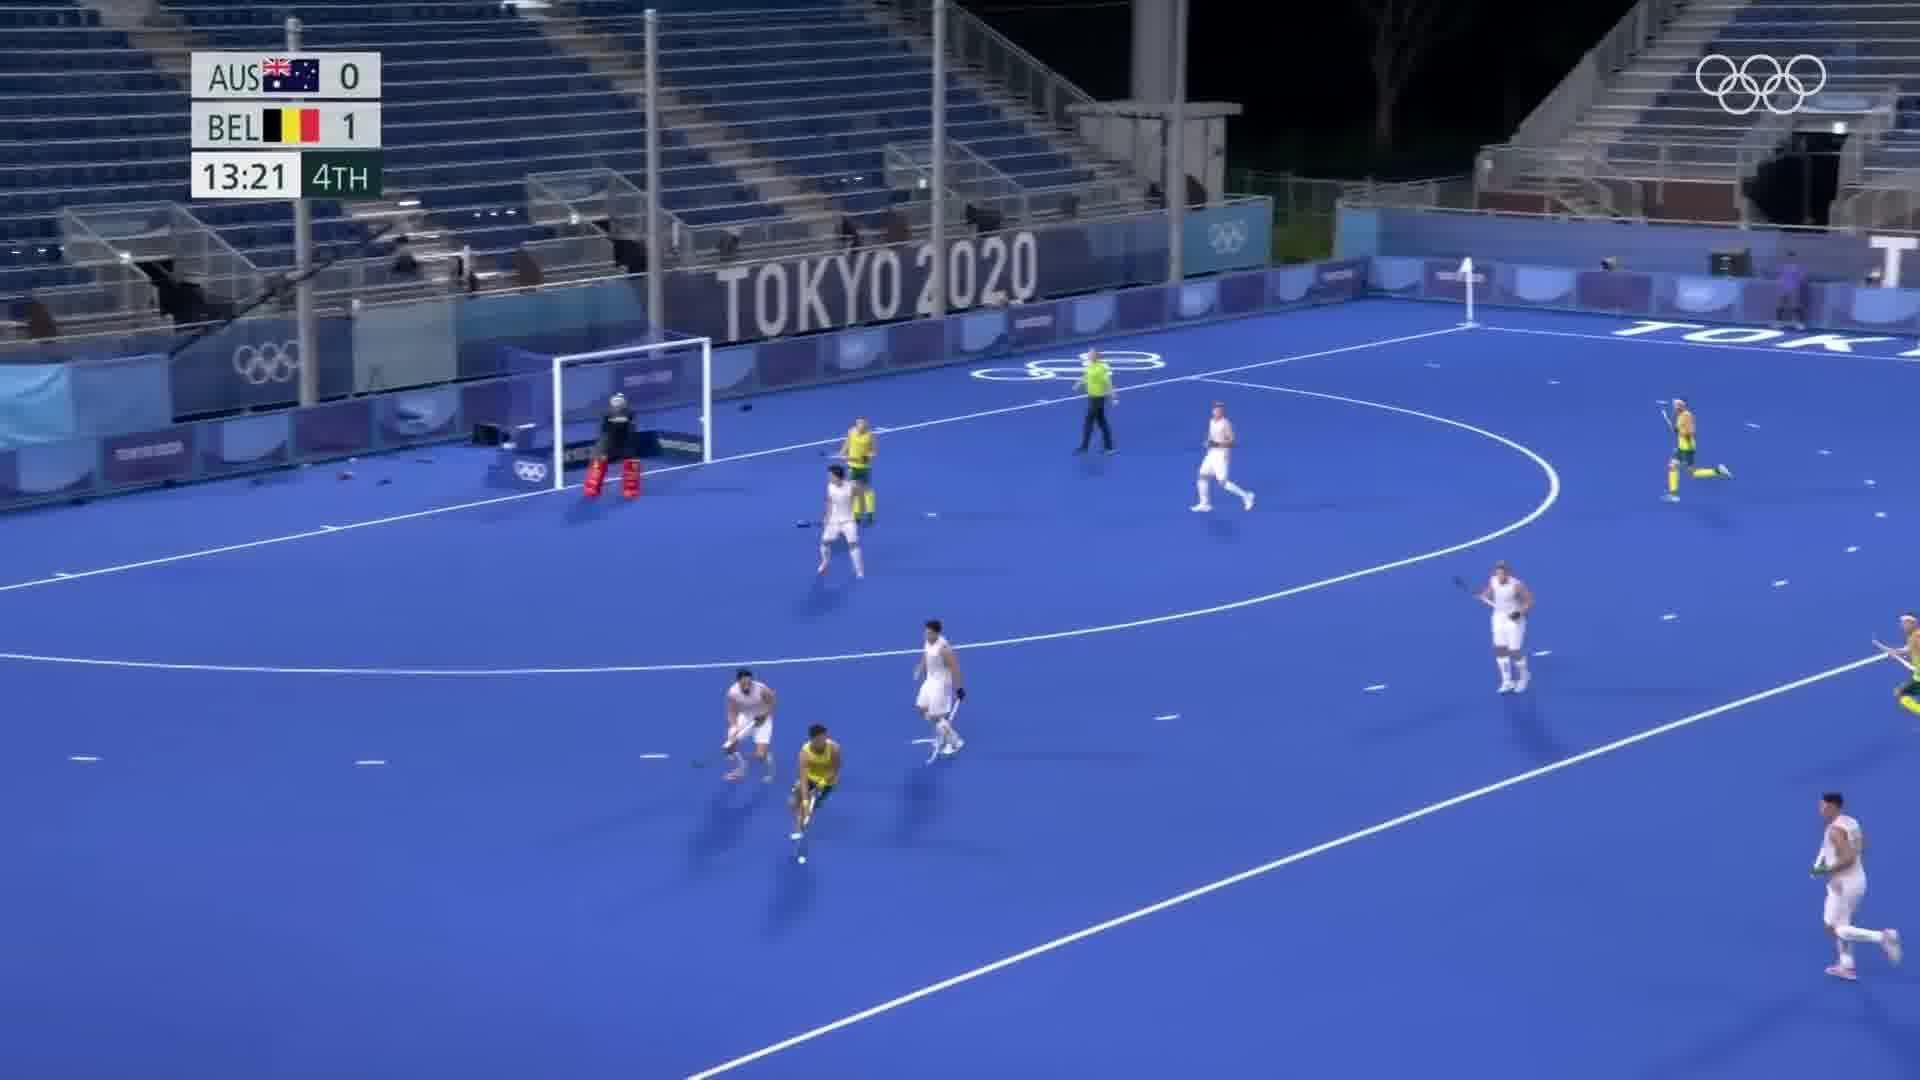ball: (793, 851, 814, 869)
